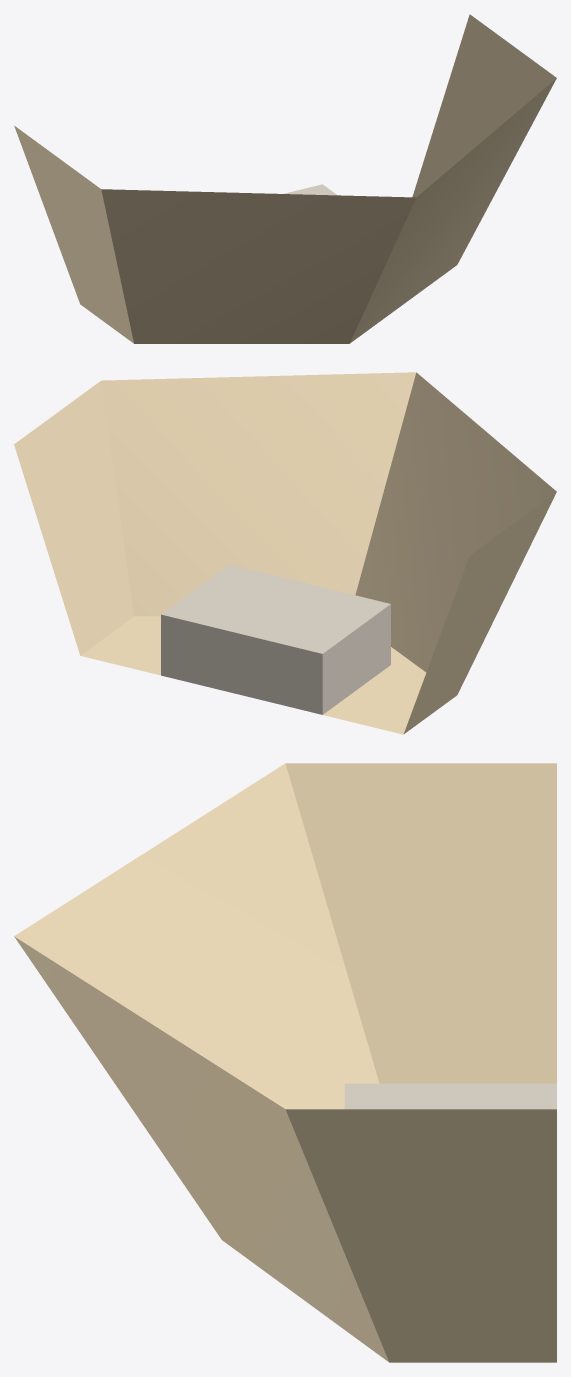
File: kitLampWall.glb
3 views of the same model, one above another, from view 1: azimuth 30°, elevation 25°; view 2: azimuth 150°, elevation 25°; view 3: azimuth 270°, elevation 25° (orthographic). The views are drawn at different scales.
Parts seen in each view (by area): view 1: kitLampWall_glow; view 2: kitLampWall_glow, kitLampWall_metal; view 3: kitLampWall_glow, kitLampWall_metal.
Boxes of the visible parts, x1=… form: kitLampWall_glow: x1=14, y1=14, x2=556, y2=343; kitLampWall_glow: x1=14, y1=372, x2=556, y2=734; kitLampWall_metal: x1=161, y1=564, x2=390, y2=714; kitLampWall_glow: x1=14, y1=763, x2=556, y2=1362; kitLampWall_metal: x1=344, y1=1083, x2=556, y2=1109.
Bounding box in the file's own units: 0.4533 × 0.1856 × 0.3007.
